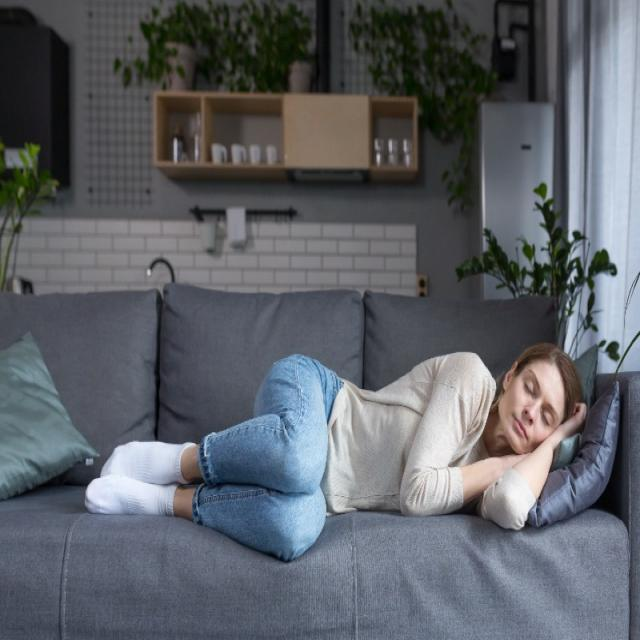people: (78, 336, 590, 552)
